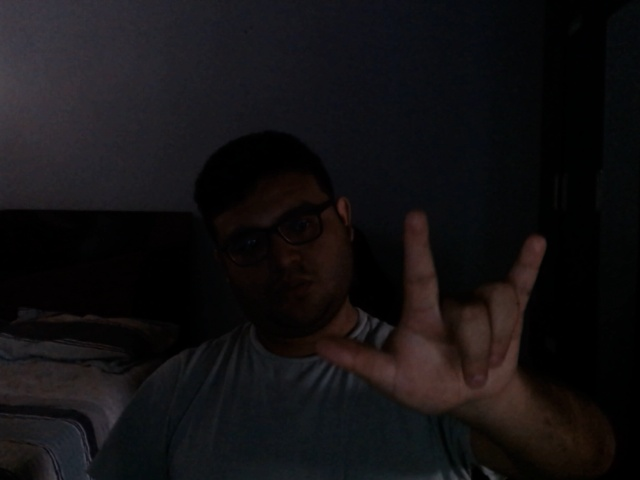I love you: (316, 208, 548, 434)
